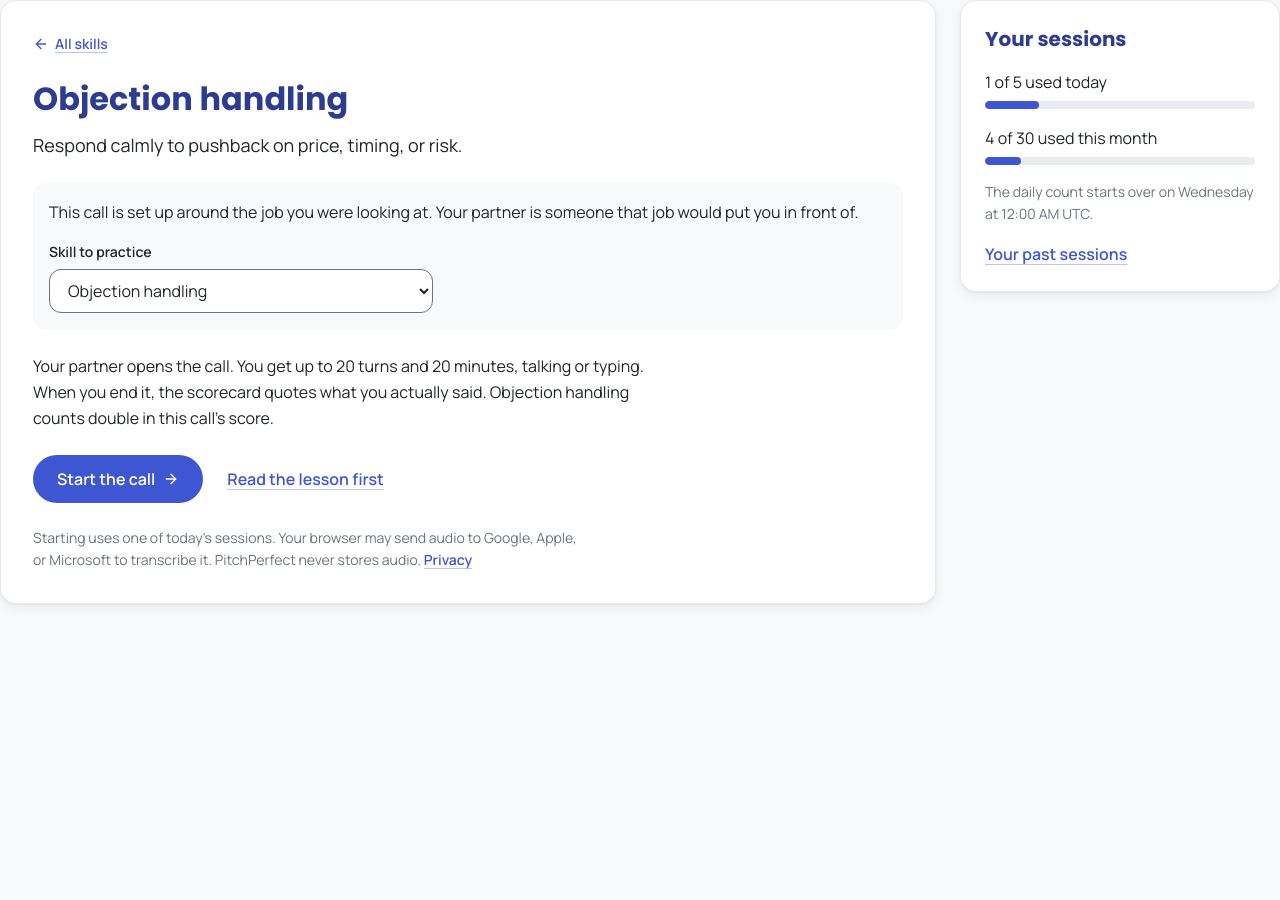
it: PracticeRoom before the call › sends the job along when practicing for one
This screenshot has width=1280, height=900.
Click the button "Start the call" at (118, 479), box [33, 455, 203, 503]
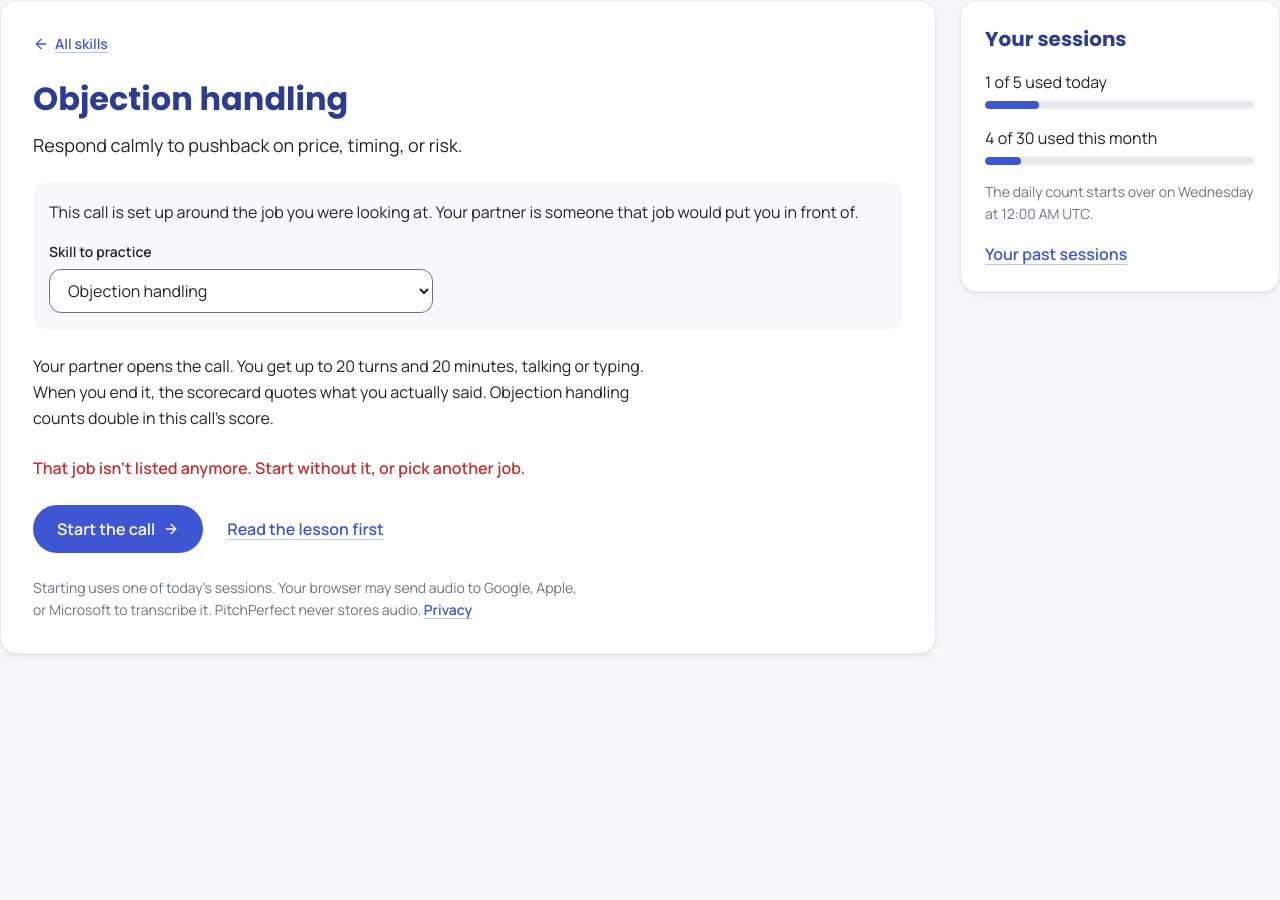
Result: the message shows "job isn’t listed" at [33, 457, 525, 479]
